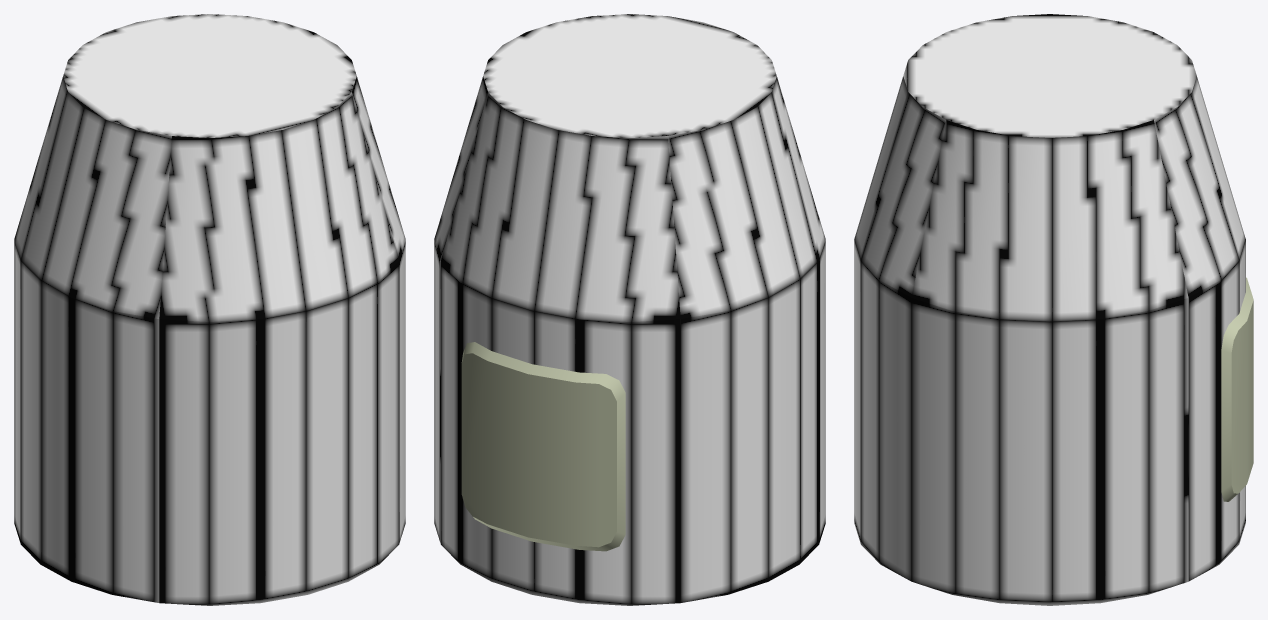
Rendered from vega_crew_s1_1_2_interior.obj.
3 renders of one model, left to right at view 1: azimuth 30°, elevation 25°; view 2: azimuth 150°, elevation 25°; view 3: azimuth 270°, elevation 25°, orthographic.
Visible parts, largest first — view 1: vega_crew_s1_1_2_interior; view 2: vega_crew_s1_1_2_interior, vega_crew_s1_1_2_interior_mask; view 3: vega_crew_s1_1_2_interior, vega_crew_s1_1_2_interior_mask.
Part boxes in pixels (x1,y1,x2,y2): vega_crew_s1_1_2_interior: (14,14,405,605); vega_crew_s1_1_2_interior: (434,14,825,605); vega_crew_s1_1_2_interior_mask: (461,342,625,551); vega_crew_s1_1_2_interior: (854,14,1245,605); vega_crew_s1_1_2_interior_mask: (1221,277,1253,501).
Bounding box in the file's own units: 1.25 × 1.58 × 1.27.
Materials: 2 (1 with a texture image).
